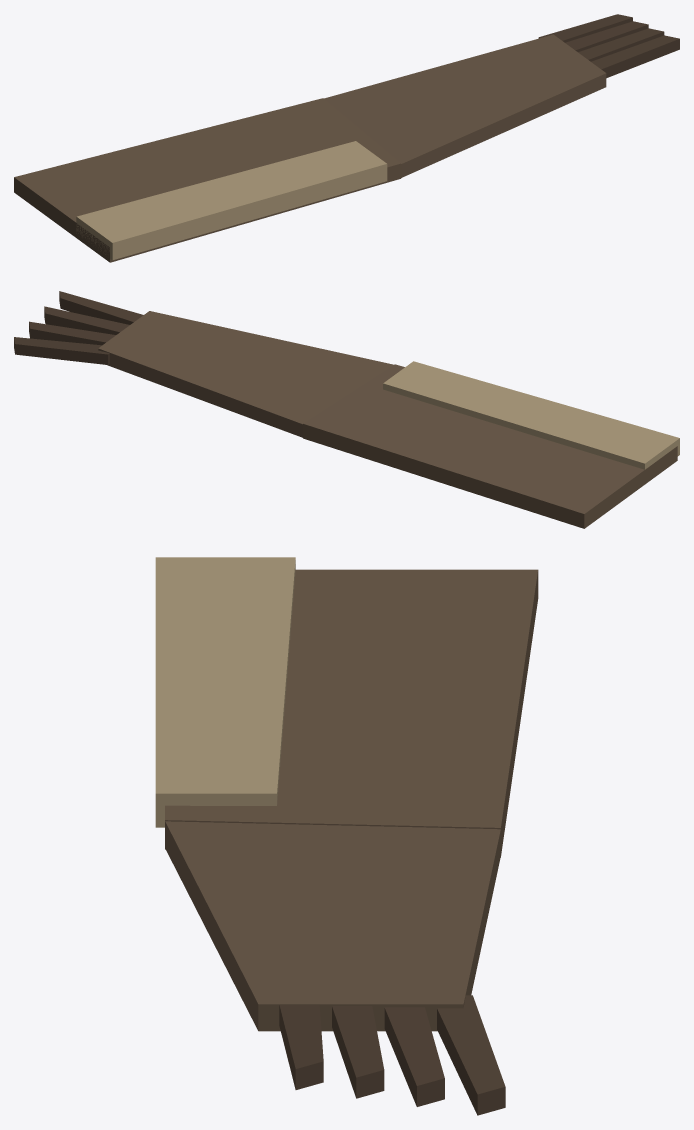
File: Pelican_Wing.glb
3 renders of one model, top to bottom at view 1: azimuth 30°, elevation 25°; view 2: azimuth 150°, elevation 25°; view 3: azimuth 270°, elevation 25°, orthographic. The views are drawn at different scales.
Parts seen in each view (by area): view 1: Pelican_Wing; view 2: Pelican_Wing; view 3: Pelican_Wing.
Part boxes in pixels (x1,y1,x2,y2): Pelican_Wing: (14,14,679,262); Pelican_Wing: (14,291,679,528); Pelican_Wing: (155,557,538,1115).
Size of the model in its own units: 1.45 by 0.12 by 0.41.
